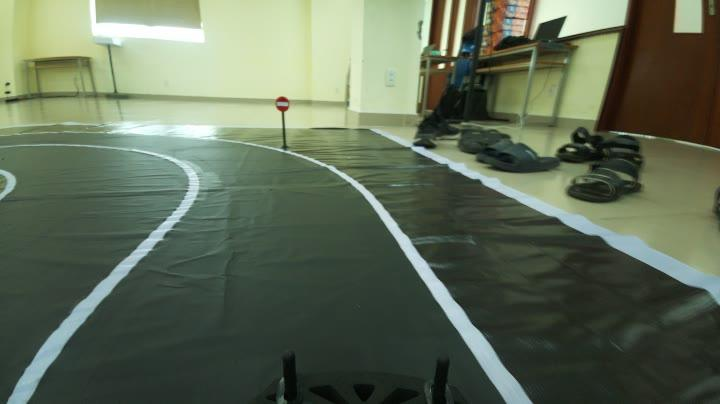no_entry: (272, 94, 292, 113)
